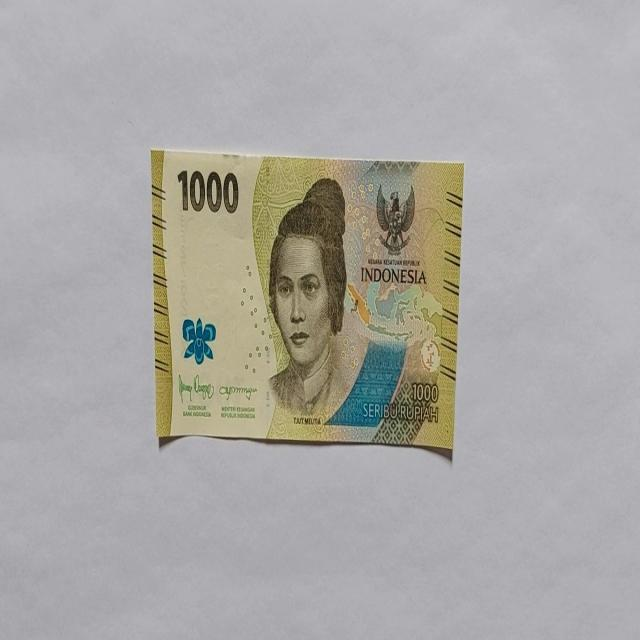seribu rupiah kertas: (150, 147, 464, 457)
